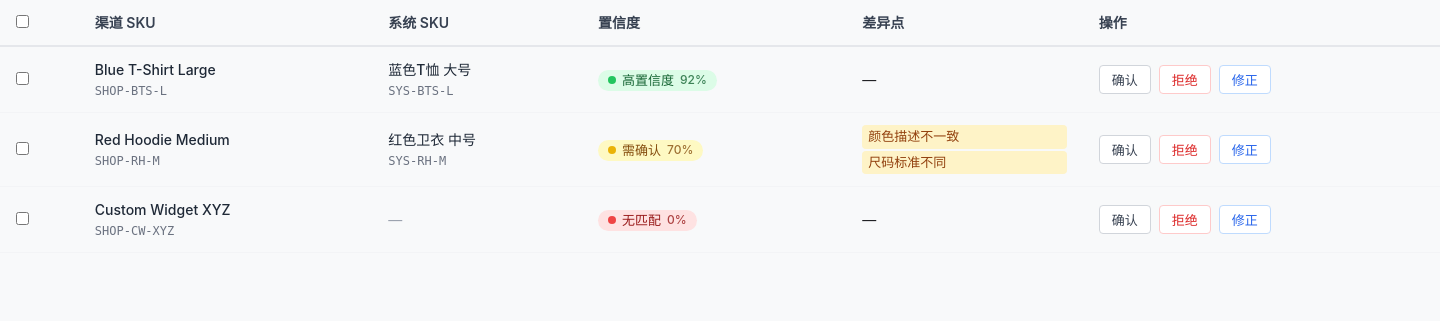
Scenario: SKUMappingTable › shows batch action bar when items are selected
expect the text "批量确认" is not shown: met
Select first item
Click the checkbox named "选择 Blue T-Shirt Large". click: x=22, y=78
box: top-left (16, 72), bottom-right (29, 85)
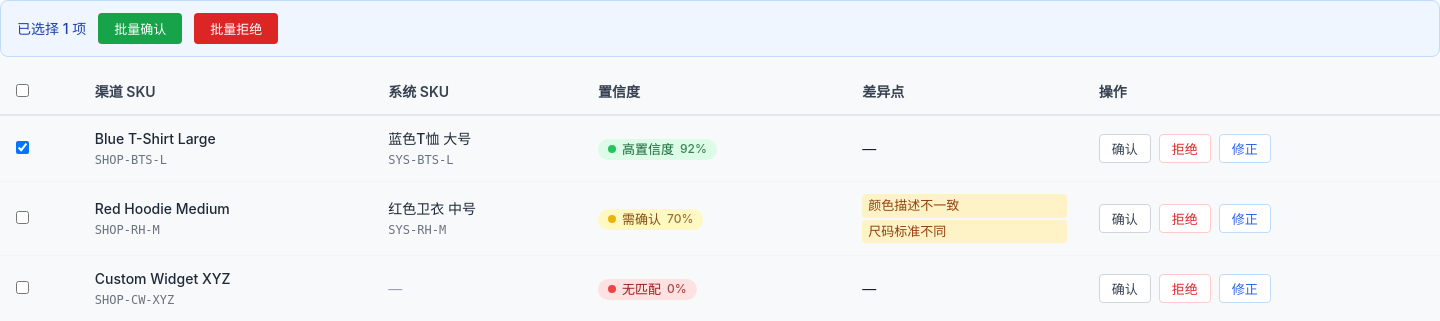
expect the text "已选择 1 项" is shown: met, box top-left (17, 18), bottom-right (86, 39)
expect the button "批量确认" is shown: met, box top-left (98, 13), bottom-right (182, 44)
expect the button "批量拒绝" is shown: met, box top-left (194, 13), bottom-right (278, 44)
